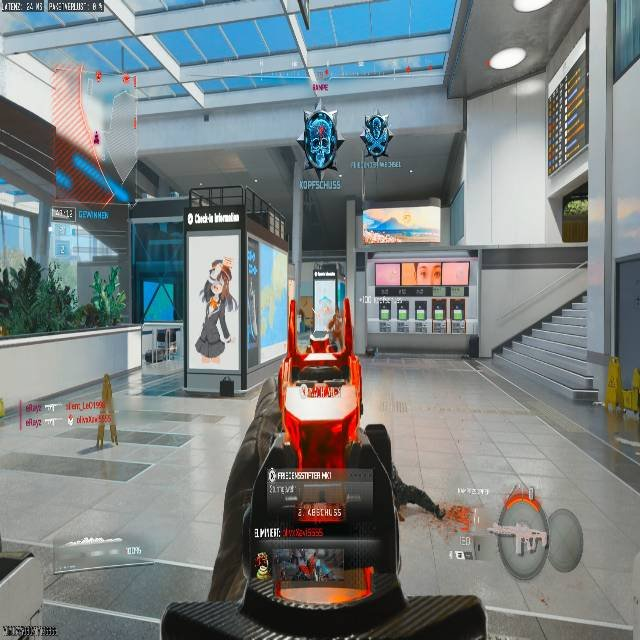head: (211, 258, 229, 276), (209, 257, 222, 273)
player: (198, 256, 234, 355), (298, 105, 342, 177), (362, 111, 391, 162)
